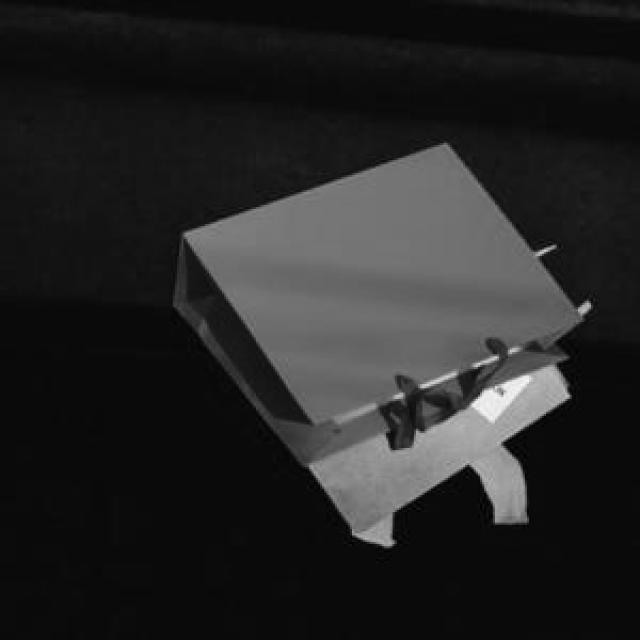paper: (169, 139, 578, 463), (305, 297, 587, 529)
